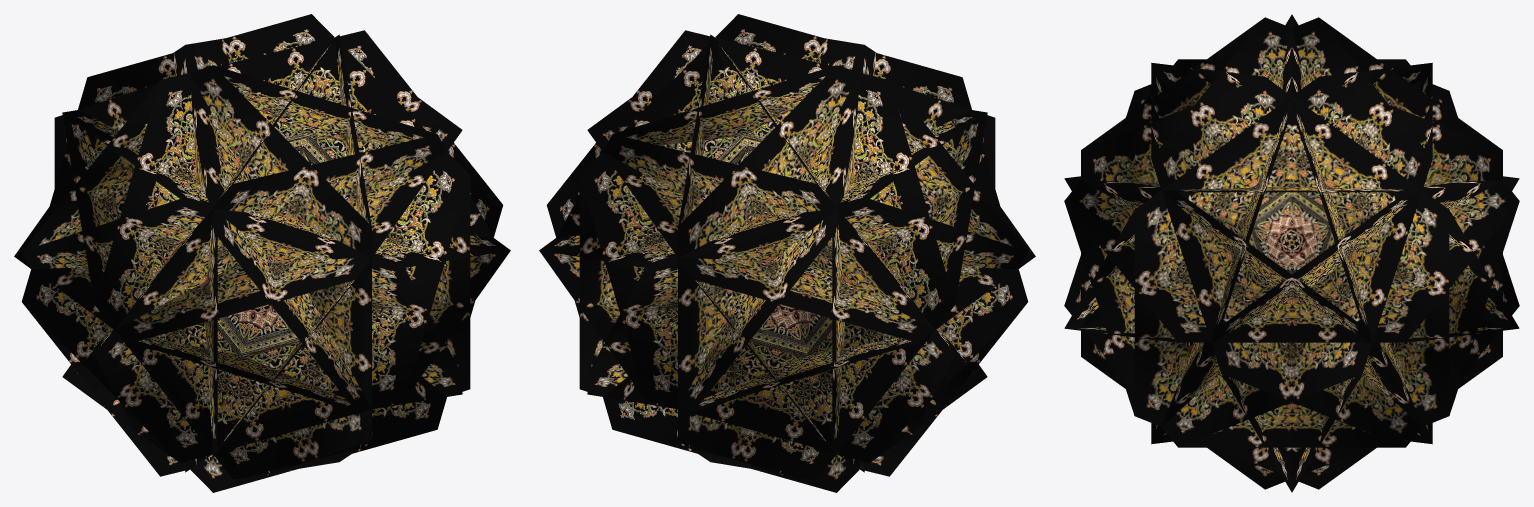
File: TruncatedGreatIcosahedron2.gltf
The picture shows the model from 3 angles, left to right: view 1: azimuth 30°, elevation 25°; view 2: azimuth 150°, elevation 25°; view 3: azimuth 270°, elevation 25°; orthographic projection. The views are drawn at different scales.
Visible parts, largest first — view 1: TruncatedGreatIcosahedron; view 2: TruncatedGreatIcosahedron; view 3: TruncatedGreatIcosahedron.
Boxes of the visible parts, x1,y1,x2,y2 form: TruncatedGreatIcosahedron: [14, 14, 510, 492]; TruncatedGreatIcosahedron: [539, 14, 1035, 492]; TruncatedGreatIcosahedron: [1064, 14, 1519, 492].
Size of the model in its own units: 2 by 2 by 2.
Materials: 1 (1 with a texture image).
